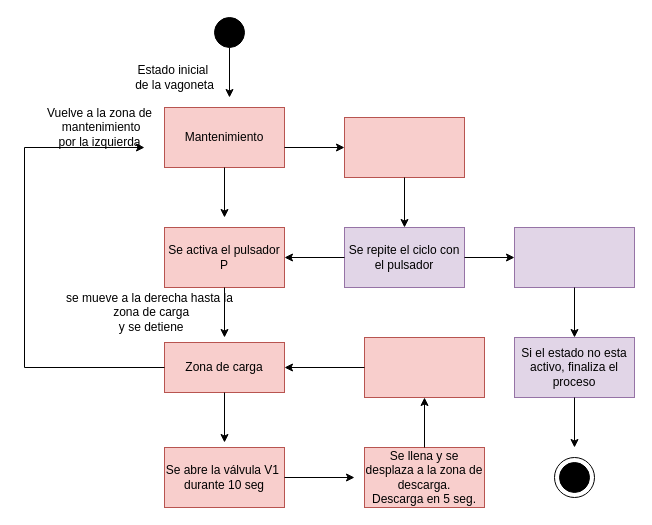
Some shapes in this 652 by 525 pixel diagram are drawn without their labels. The shapes that lost their labels are listed below. From the top down, each one's centre as x and y in pixels, then its label:
At point (404, 147): "Se realiza una revisión por 1 minuto".
At point (574, 257): "Estado activo".
At point (424, 367): "Vuelve a la zona de carga y repite el proceso 5 veces".
